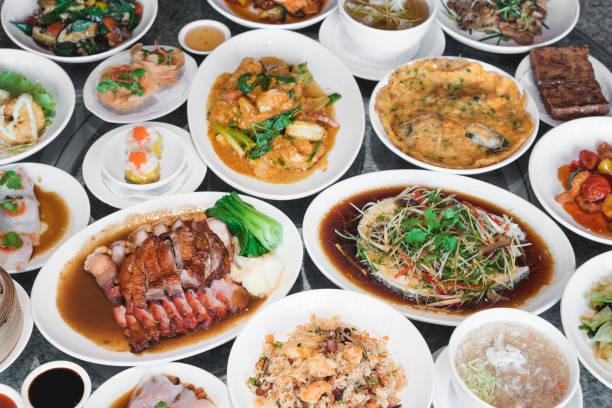Braised Crucian Carp: (33, 191, 296, 364), (304, 168, 571, 324), (187, 27, 361, 201), (225, 288, 430, 405), (367, 56, 538, 175), (435, 308, 589, 408), (81, 122, 206, 209), (0, 0, 160, 59), (81, 45, 194, 122), (517, 41, 612, 130)
